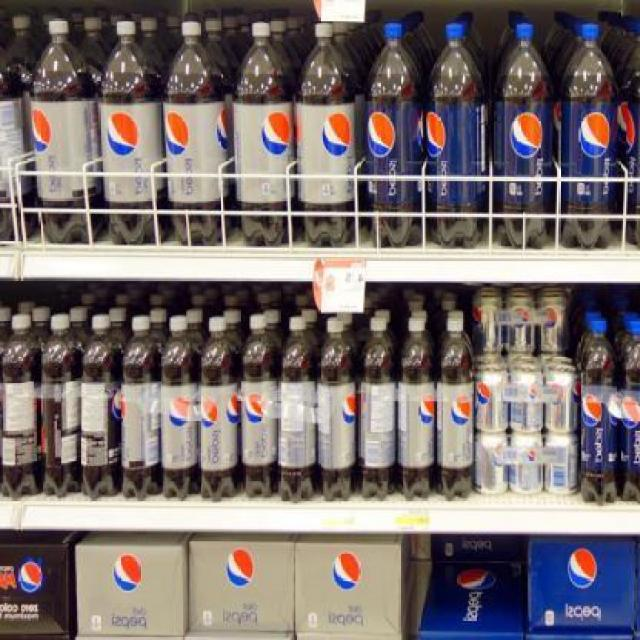Drinks: (29, 17, 103, 243), (96, 18, 169, 245), (162, 20, 227, 248), (425, 21, 487, 248), (492, 23, 554, 249), (232, 22, 294, 246), (365, 21, 426, 248), (558, 24, 618, 251), (296, 22, 356, 247), (74, 540, 188, 638), (528, 537, 638, 638), (292, 540, 402, 638), (188, 540, 294, 638), (417, 561, 528, 639), (80, 314, 122, 500), (39, 312, 81, 498), (198, 316, 238, 502), (316, 316, 356, 501), (397, 318, 437, 500), (159, 314, 198, 500), (358, 318, 398, 499), (1, 315, 39, 502), (435, 318, 474, 500), (121, 316, 159, 502), (277, 317, 315, 503), (580, 318, 617, 504), (241, 314, 276, 500), (618, 318, 639, 500), (545, 362, 581, 435), (510, 364, 545, 433), (475, 364, 510, 433), (536, 291, 572, 354), (509, 432, 543, 498), (545, 434, 580, 498), (474, 434, 508, 498), (472, 292, 505, 354), (505, 292, 537, 354)
